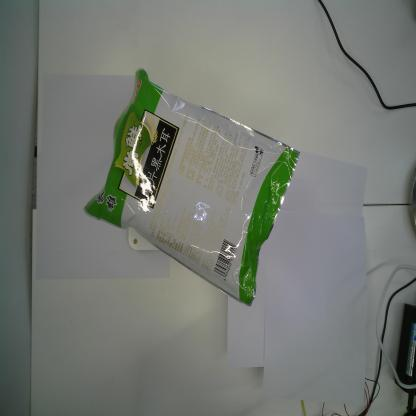Dried Food: (79, 63, 302, 310)
